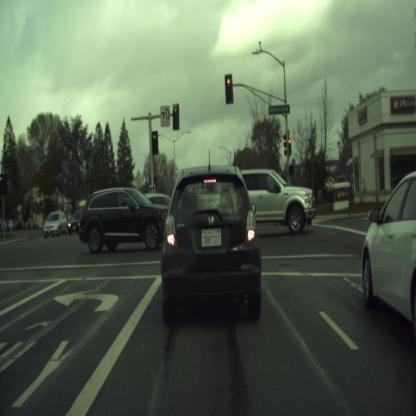Red: (225, 74, 233, 102), (288, 138, 291, 154)
RedLeft: (172, 104, 179, 130), (152, 131, 158, 154), (0, 173, 4, 194)
